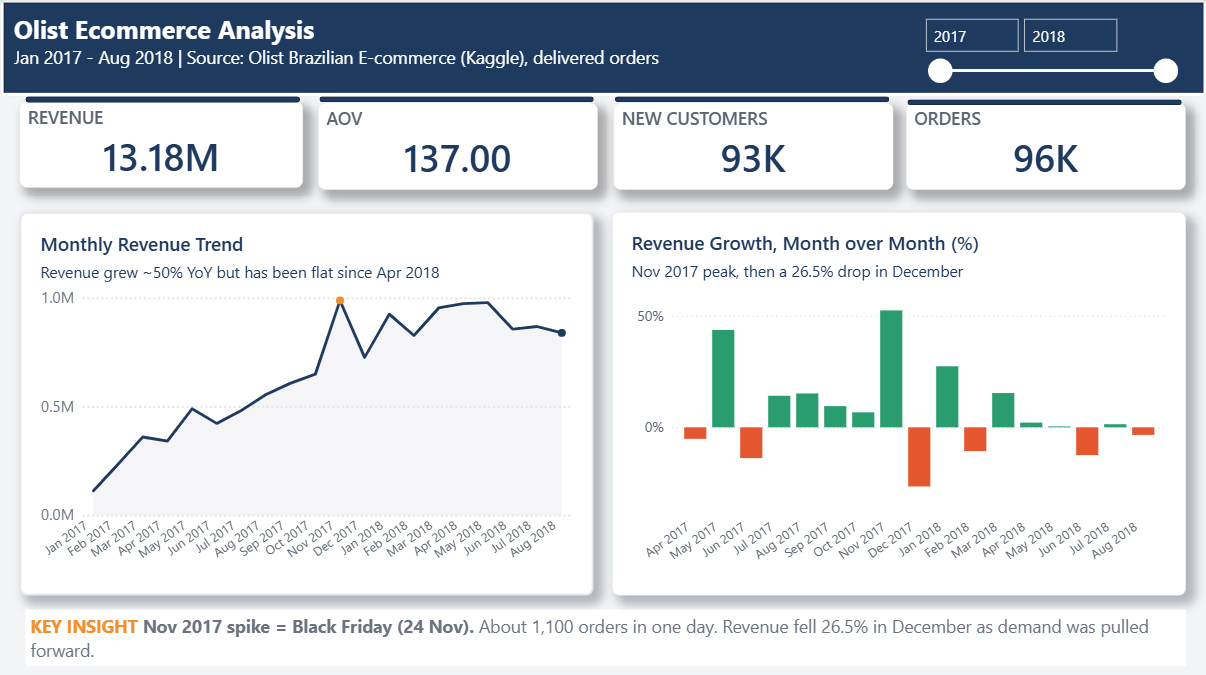

What the dashboard file says about the page in this screenshot:
{"tool":"powerbi","page":{"name":"Executive Summary","canvas":[1280,720],"ordinal":0},"visuals":[{"type":"shape","box":[0,0,1280.7,104],"z":0},{"type":"card","title":"REVENUE","fields":{"Values":["_Measures.Revenue"]},"box":[20.7,108.2,300.6,92.3],"z":1000},{"type":"stackedAreaChart","title":"Monthly Revenue Trend","fields":{"Category":["dim_date.Month Label"],"Y":["_Measures.Revenue"]},"box":[21.2,225.3,608.6,406.3],"z":2000},{"type":"card","title":"AOV","fields":{"Values":["_Measures.AOV"]},"box":[337,109.8,296.6,92.4],"z":3000},{"type":"card","title":"NEW CUSTOMERS","fields":{"Values":["_Measures.New Customers"]},"box":[650.9,109.8,296.6,92.4],"z":4000},{"type":"card","title":"ORDERS","fields":{"Values":["_Measures.Orders"]},"box":[961,109.8,296.6,92.4],"z":5000},{"type":"slicer","fields":{"Values":["dim_date.Year"]},"box":[968.7,11.6,288.9,80.9],"z":6000},{"type":"clusteredColumnChart","title":"Revenue Growth, Month over Month (%)","fields":{"Y":["_Measures.Revenue MoM %"],"Category":["dim_date.Month Label"]},"box":[649,225.3,608.6,406.3],"z":7000},{"type":"textbox","box":[27,647.1,1230.6,59.7],"z":8000},{"type":"textbox","box":[9.5,8,701.5,95.4],"z":9000},{"type":"shape","box":[338.9,104,290.8,5.8],"z":11000},{"type":"shape","box":[962.9,105.9,290.8,5.8],"z":12000},{"type":"shape","box":[652.8,104,290.8,5.8],"z":13000},{"type":"shape","box":[27,103.4,291.1,6.4],"z":14000}]}

Visuals, with their boxes in screenshot pixels (x1, y1, x2, y2), scaled from the page's 1280x720 canvas onto the 1206x675 screenshot:
shape: <bbox>0, 0, 1205, 98</bbox>
"REVENUE" card: <bbox>20, 101, 303, 188</bbox>
"Monthly Revenue Trend" stackedAreaChart: <bbox>20, 211, 593, 592</bbox>
"AOV" card: <bbox>318, 103, 597, 190</bbox>
"NEW CUSTOMERS" card: <bbox>613, 103, 893, 190</bbox>
"ORDERS" card: <bbox>905, 103, 1185, 190</bbox>
slicer - dim_date.Year: <bbox>913, 11, 1185, 87</bbox>
"Revenue Growth, Month over Month (%)" clusteredColumnChart: <bbox>611, 211, 1185, 592</bbox>
textbox: <bbox>25, 607, 1185, 663</bbox>
textbox: <bbox>9, 8, 670, 97</bbox>
shape: <bbox>319, 98, 593, 103</bbox>
shape: <bbox>907, 99, 1181, 105</bbox>
shape: <bbox>615, 98, 889, 103</bbox>
shape: <bbox>25, 97, 300, 103</bbox>
